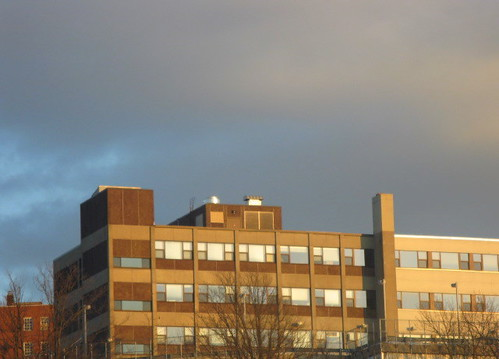building: (48, 218, 499, 359)
sky: (1, 1, 498, 227)
